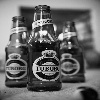beer: (28, 2, 64, 95)
